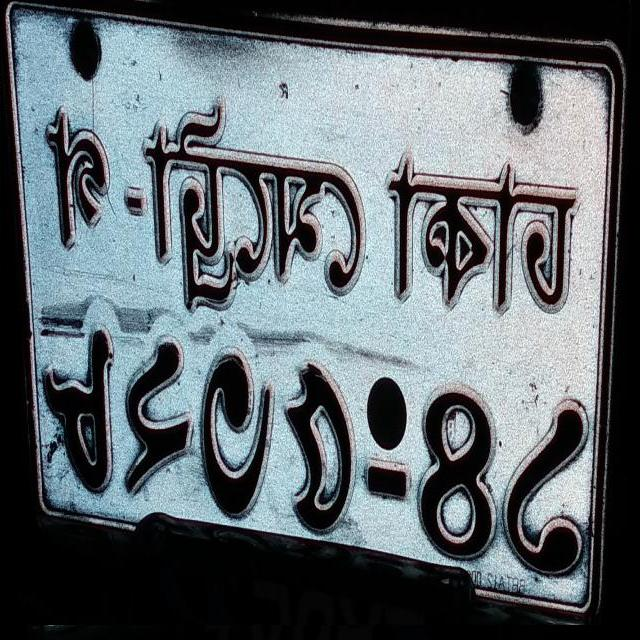cng: (261, 97, 488, 313)
numberplate: (1, 0, 628, 625)
